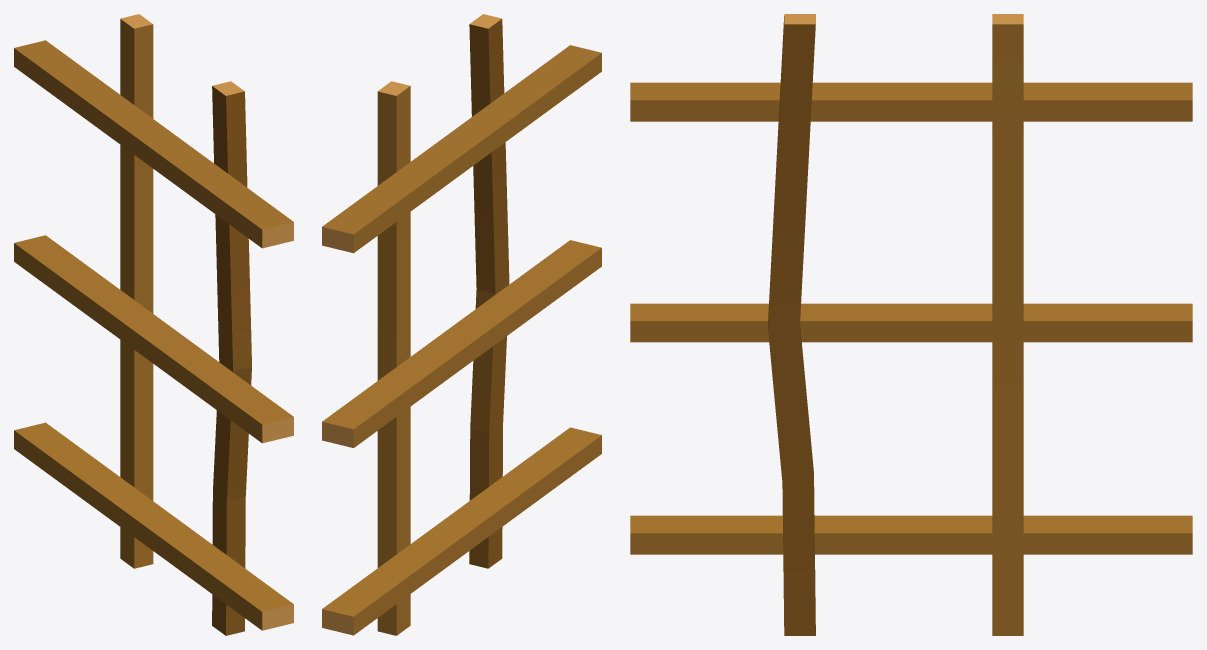
The model's file is WoodFrame_2_1.fbx.
3 views of the same model, side by side, from view 1: azimuth 30°, elevation 25°; view 2: azimuth 150°, elevation 25°; view 3: azimuth 270°, elevation 25° (orthographic). The views are drawn at different scales.
Parts seen in each view (by area): view 1: WoodFrame_2_1; view 2: WoodFrame_2_1; view 3: WoodFrame_2_1.
Boxes of the visible parts, box(x1,y1,x2,y2) form: WoodFrame_2_1: box(14, 14, 293, 635); WoodFrame_2_1: box(322, 14, 601, 635); WoodFrame_2_1: box(630, 14, 1192, 635).
Bounding box in the file's own units: 23.57 × 240 × 200.
